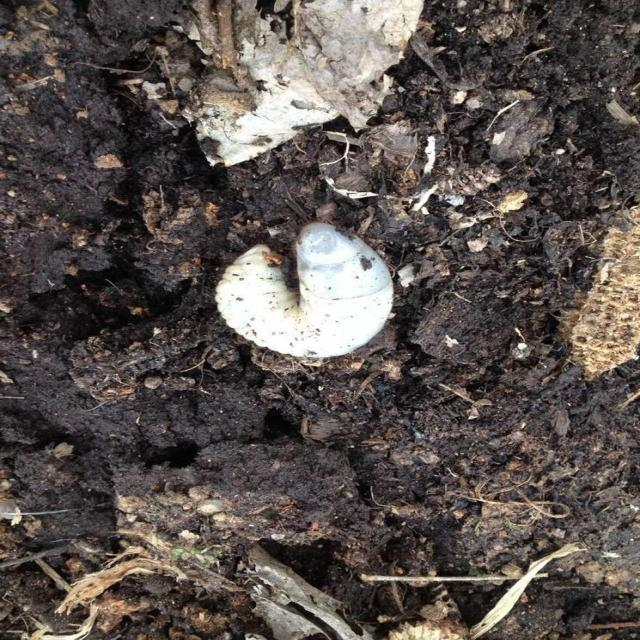grub: (201, 227, 399, 360)
